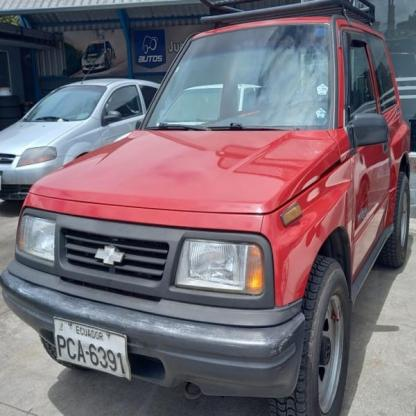Placa: (52, 315, 130, 385)
